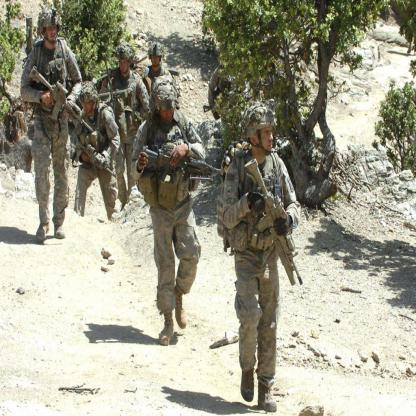face: (257, 124, 274, 151), (161, 105, 175, 122), (46, 24, 58, 41), (82, 100, 92, 114), (120, 59, 129, 73), (153, 55, 161, 67)
